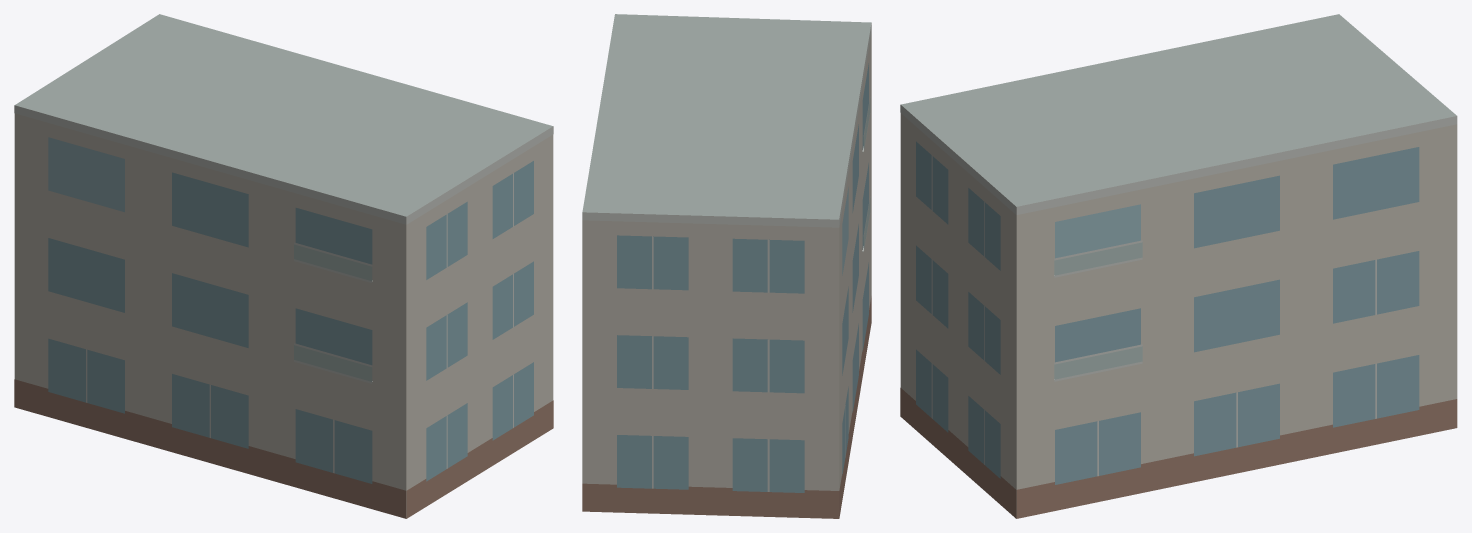
The model's file is survey-upis-32738249.glb.
3 views of the same model, side by side, from view 1: azimuth 30°, elevation 25°; view 2: azimuth 150°, elevation 25°; view 3: azimuth 270°, elevation 25° (orthographic). The views are drawn at different scales.
Parts seen in each view (by area): view 1: survey-upis-32738249.tmp; view 2: survey-upis-32738249.tmp; view 3: survey-upis-32738249.tmp.
Part boxes in pixels (x1,y1,x2,y2): survey-upis-32738249.tmp: [14, 14, 553, 518]; survey-upis-32738249.tmp: [582, 14, 871, 518]; survey-upis-32738249.tmp: [900, 14, 1457, 518].
Bounding box in the file's own units: 12.14 × 9.15 × 14.81.
